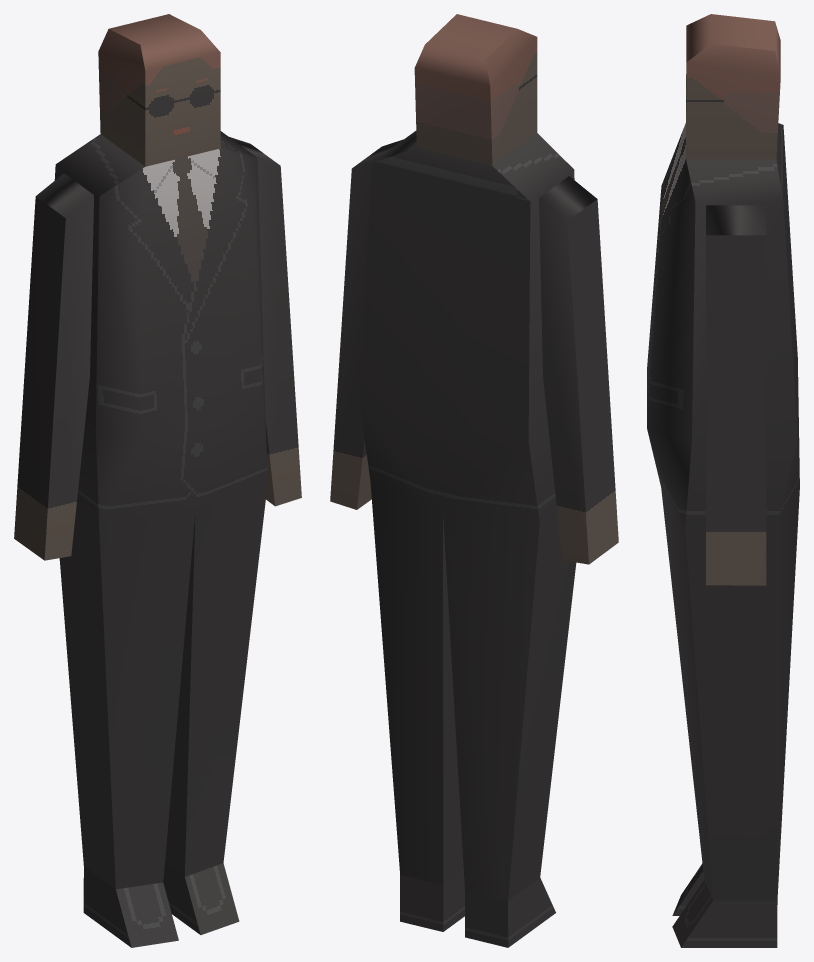
The model's file is 01f0_Man.glb.
The picture shows the model from 3 angles, left to right: view 1: azimuth 30°, elevation 25°; view 2: azimuth 150°, elevation 25°; view 3: azimuth 270°, elevation 25°; orthographic projection.
Parts seen in each view (by area): view 1: part_0; view 2: part_0; view 3: part_0.
Boxes of the visible parts, x1,y1,x2,y2 form: part_0: (14,14,301,947); part_0: (330,14,618,947); part_0: (647,14,799,947).
Size of the model in its own units: 0.5874 by 1.93 by 0.2993.
Materials: 1 (1 with a texture image).
